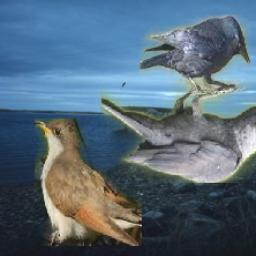Crow: (100, 79, 256, 183), (140, 16, 250, 94)
Cuckoo: (33, 120, 141, 247)
